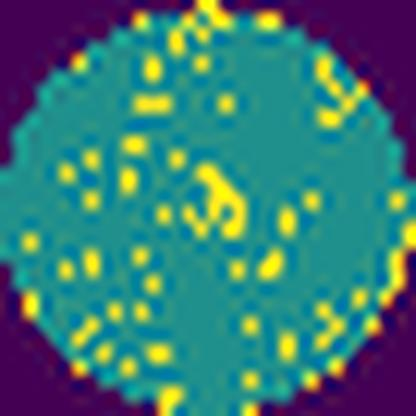Center: (177, 162, 257, 242)
